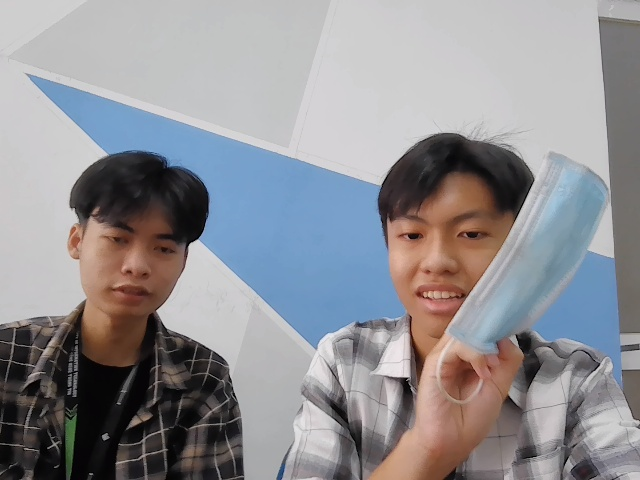human: (371, 131, 539, 324), (66, 144, 213, 321)
mask: (449, 154, 605, 346)
